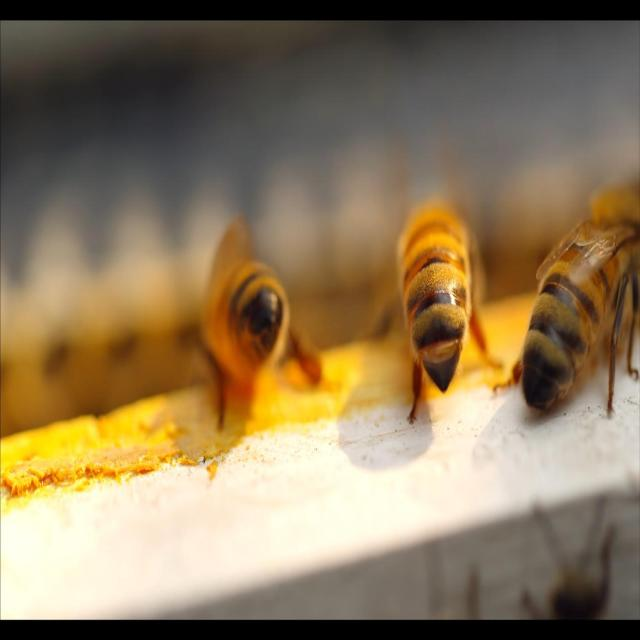honeybee: (519, 130, 640, 462), (366, 148, 454, 344), (206, 241, 304, 403)
